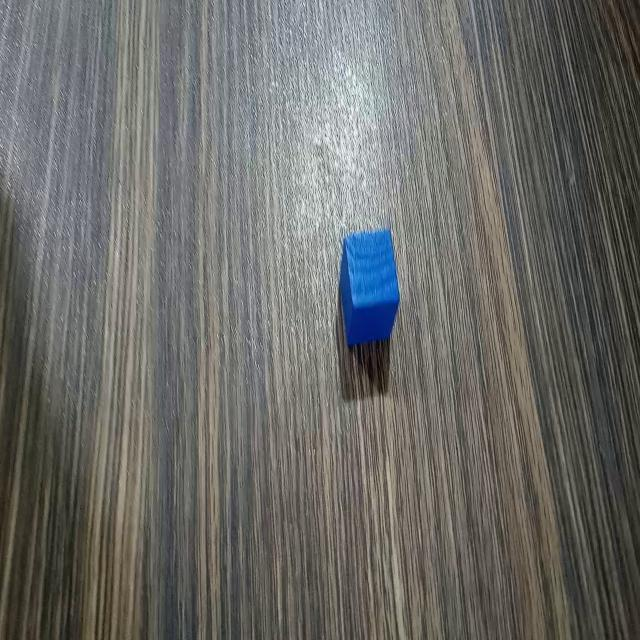cube: (336, 225, 401, 346)
